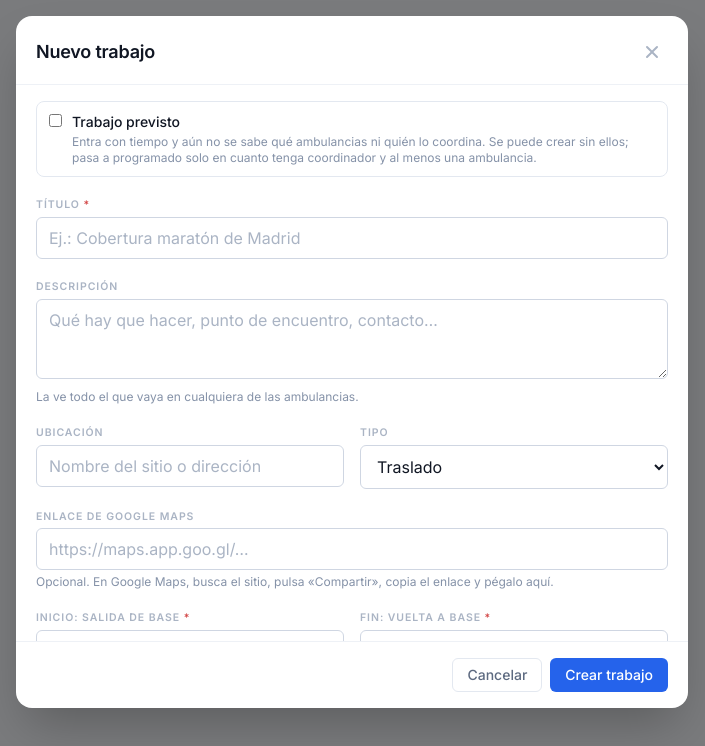
it: TrabajoForm · ubicación en Google Maps (v34) › con texto y sin enlace avisa de que la búsqueda puede no ser precisa y deja comprobarla
Type "Retiro" into the field with placeholder "Nombre del sitio o dirección" at point(190, 466), box [36,445,344,487]
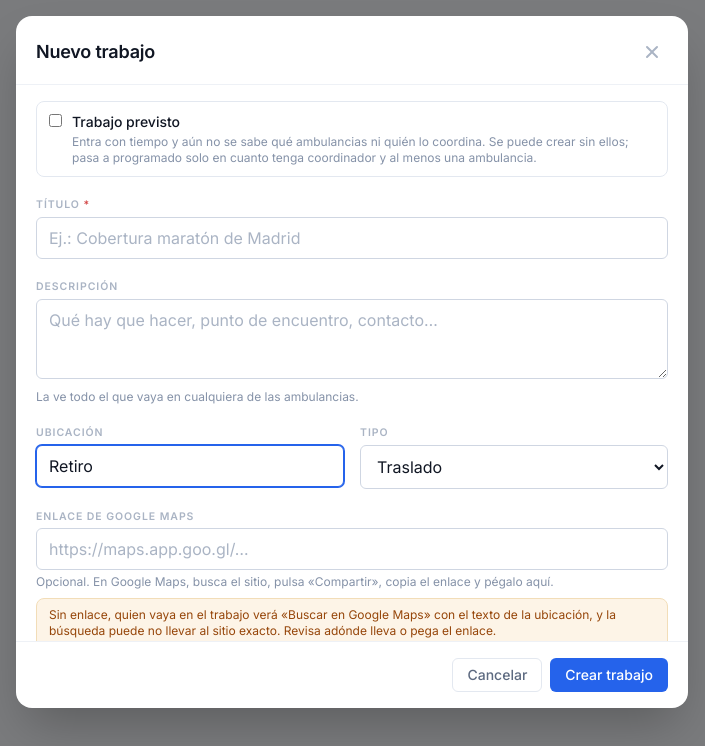
Expected: the element with test id "aviso-ubicacion-imprecisa" shows "puede no llevar al sitio exacto", [49,607,616,638]
